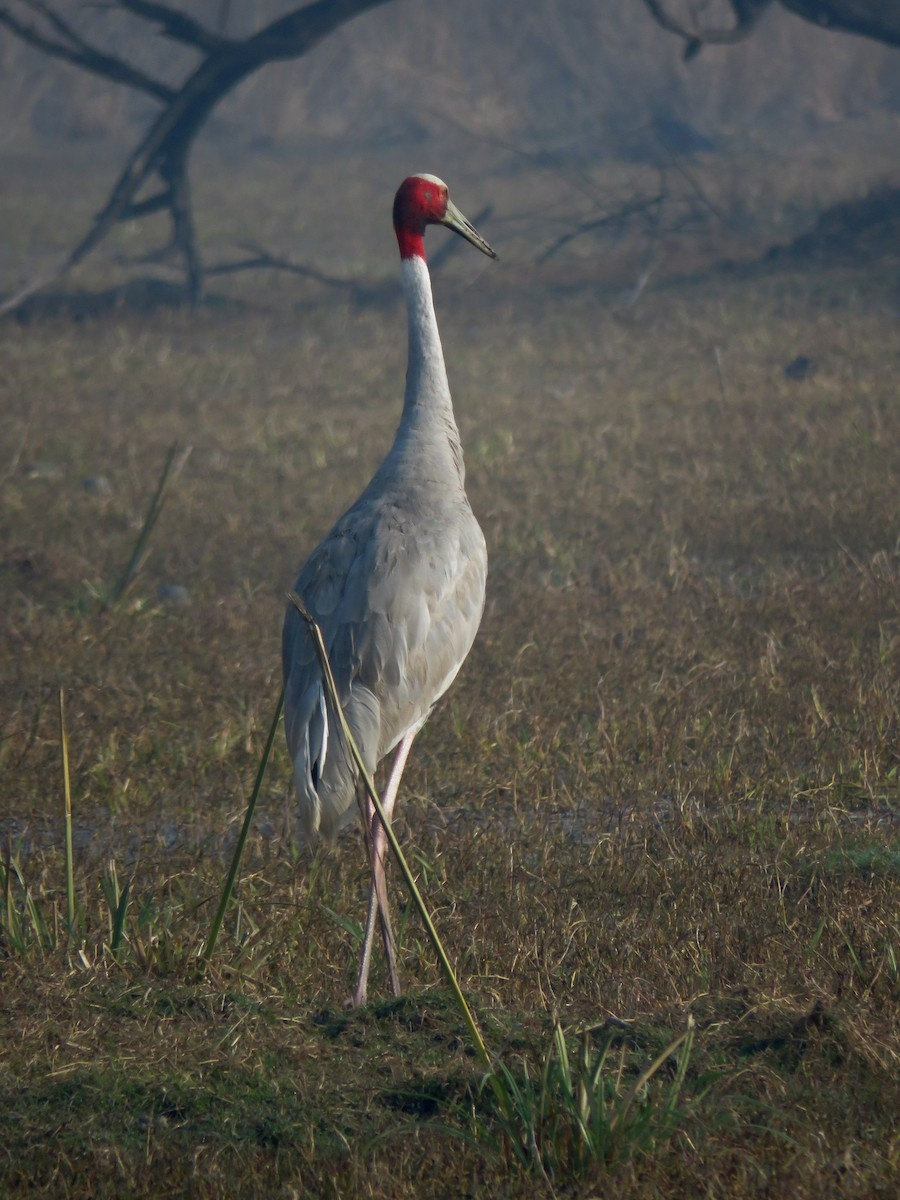crane: (272, 162, 510, 985)
